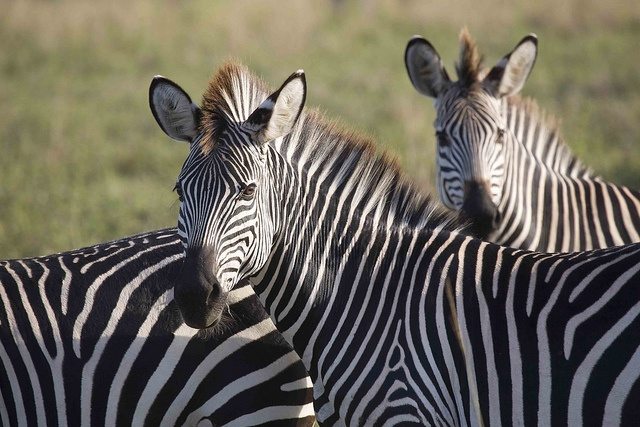zebra: (148, 61, 640, 426), (1, 227, 318, 425), (403, 23, 640, 255)
